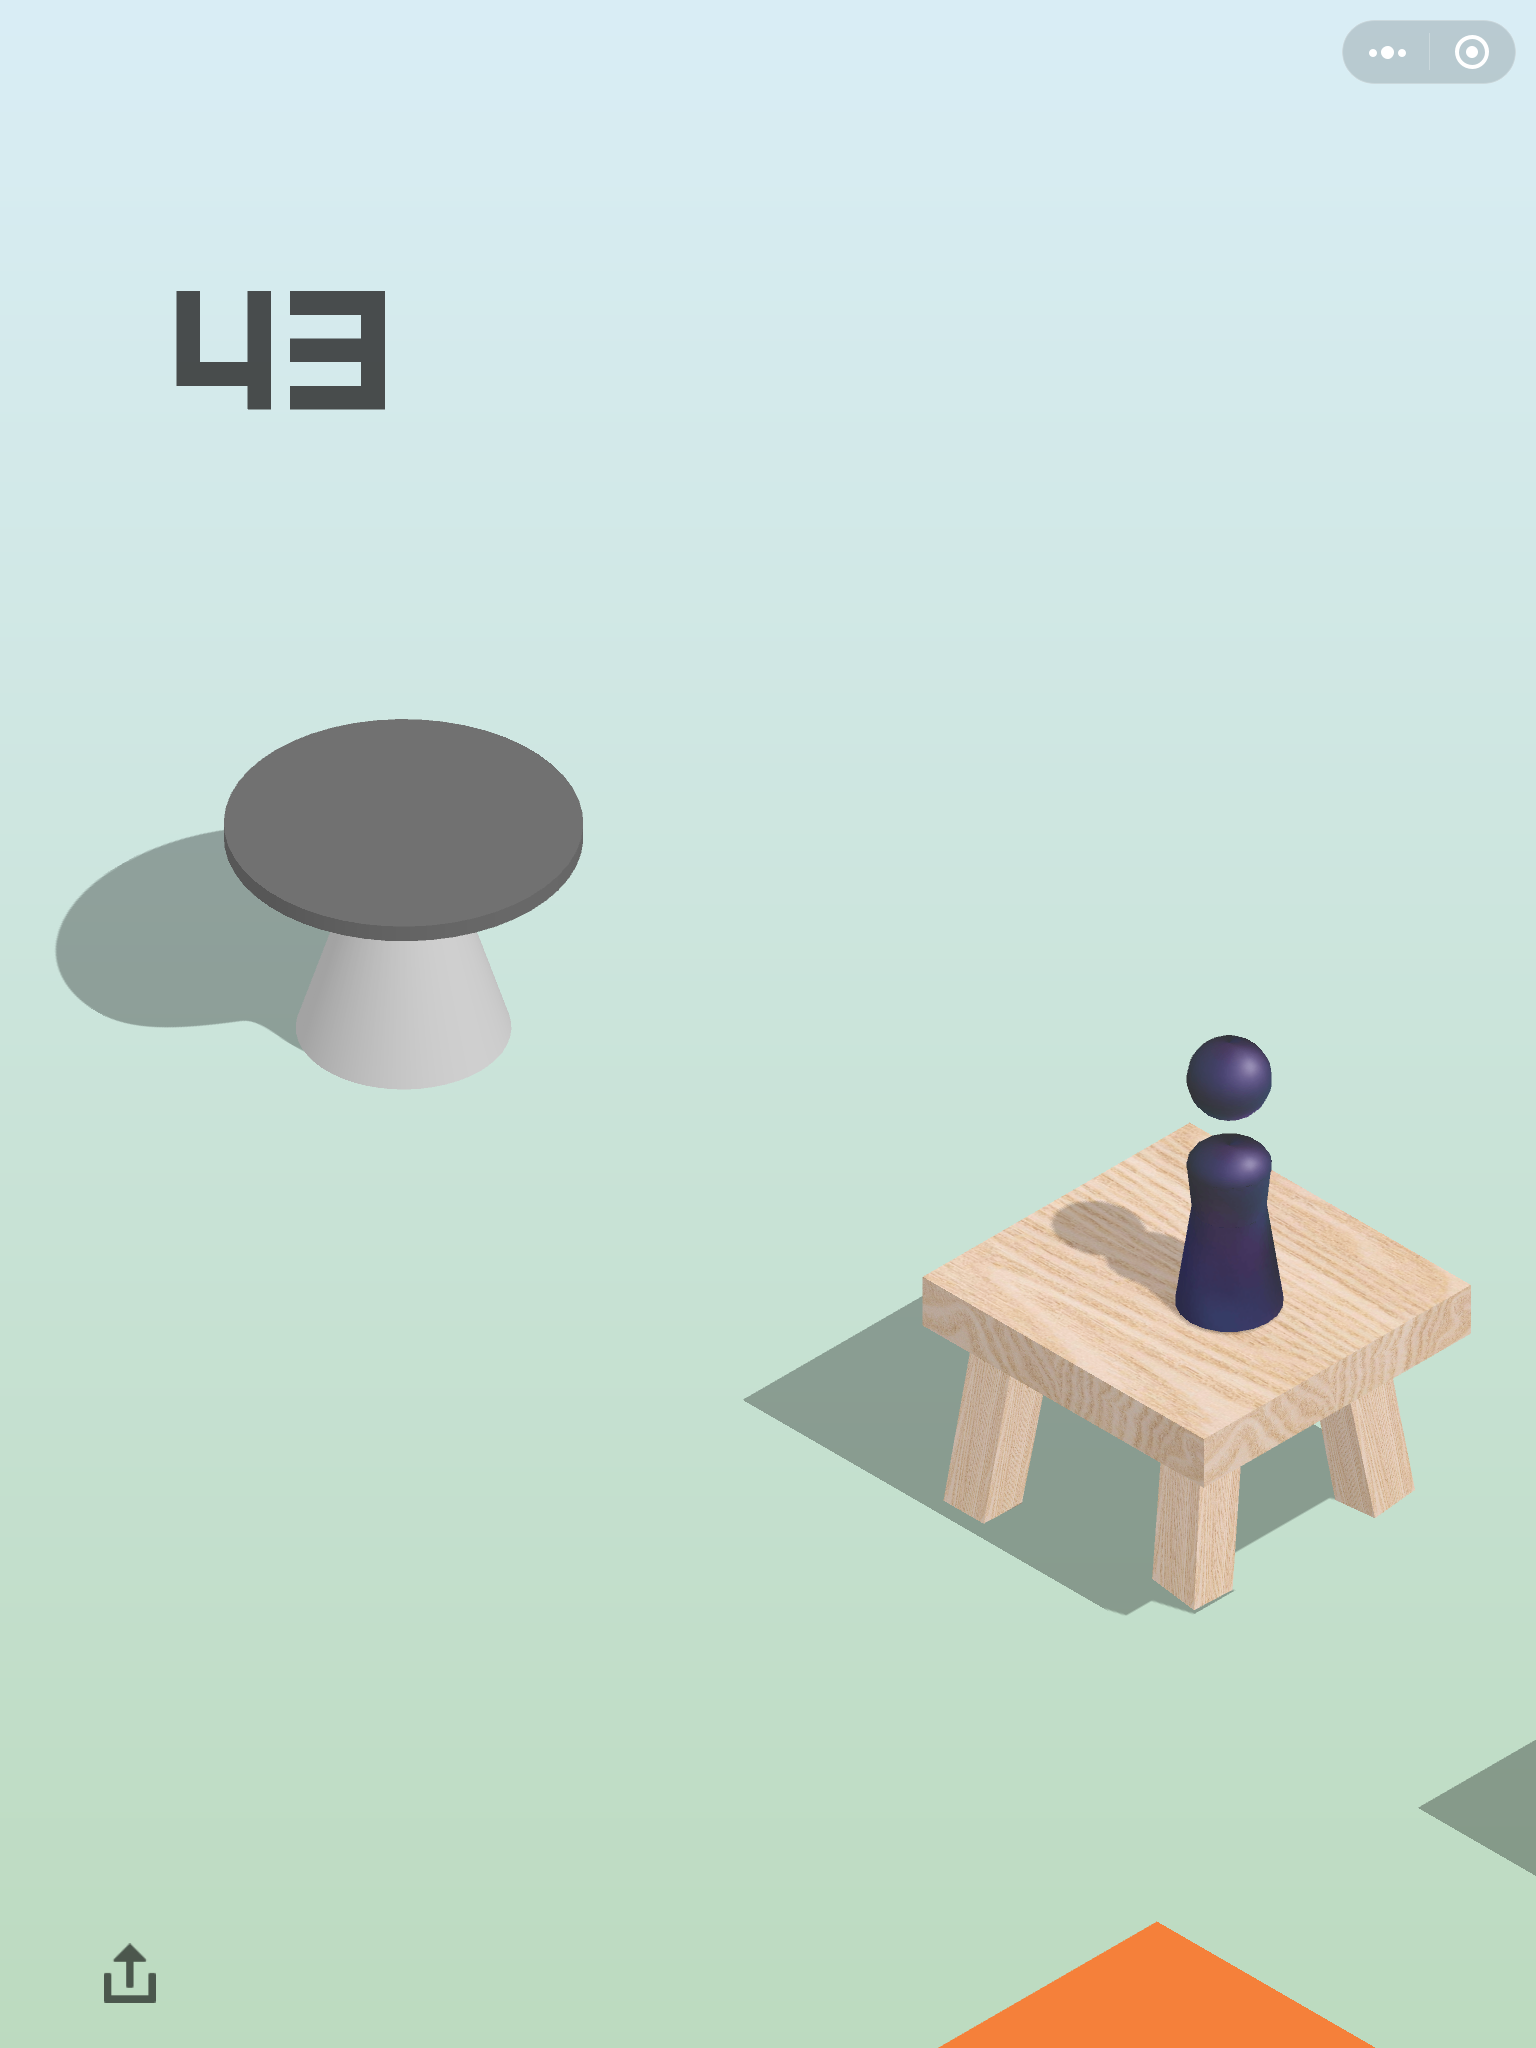c: (219, 713, 587, 1095)
f: (913, 1122, 1476, 1614), (925, 1917, 1391, 2048)
r: (1171, 1030, 1292, 1338)
